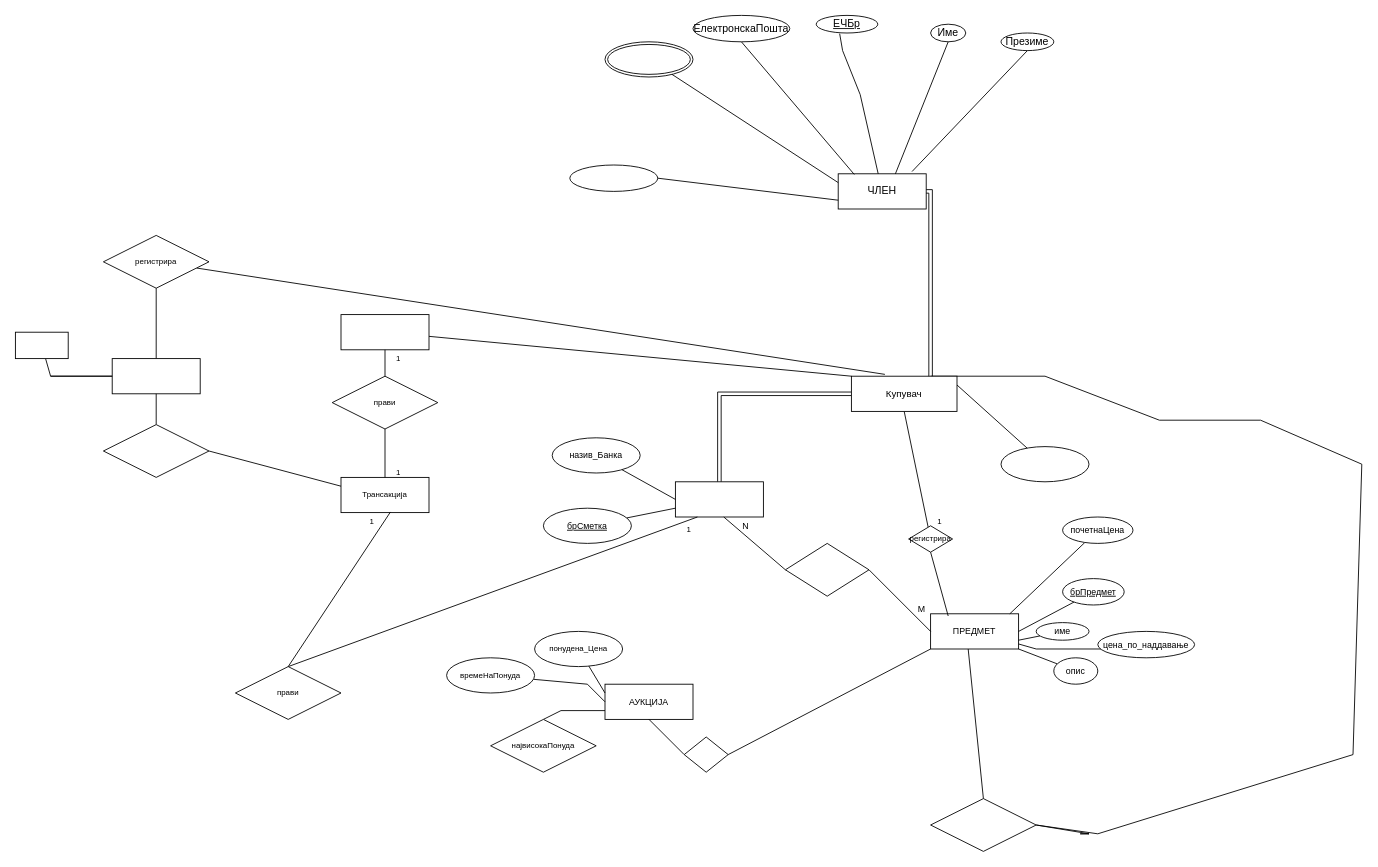
Some shapes in this 1378 by 867 pixel diagram are drawn without their labels. The centre of each missing label's shape, as x and y in pixels:
"адреса_на_достава" goes at (x=1044, y=464).
"даваПонуда" goes at (x=983, y=824).
"домашнаАдреса" goes at (x=613, y=177).
"ИМА" goes at (x=156, y=450).
"нуди_во_Продажба" goes at (x=827, y=569).
"Победник" goes at (x=384, y=332).
"понудено_за" goes at (x=705, y=754).
"Продавач" goes at (x=719, y=499).
"рејтинг" goes at (x=41, y=345).
"телефонскиБрој" goes at (x=648, y=59).
"ФИДБЕК" goes at (x=155, y=376).
